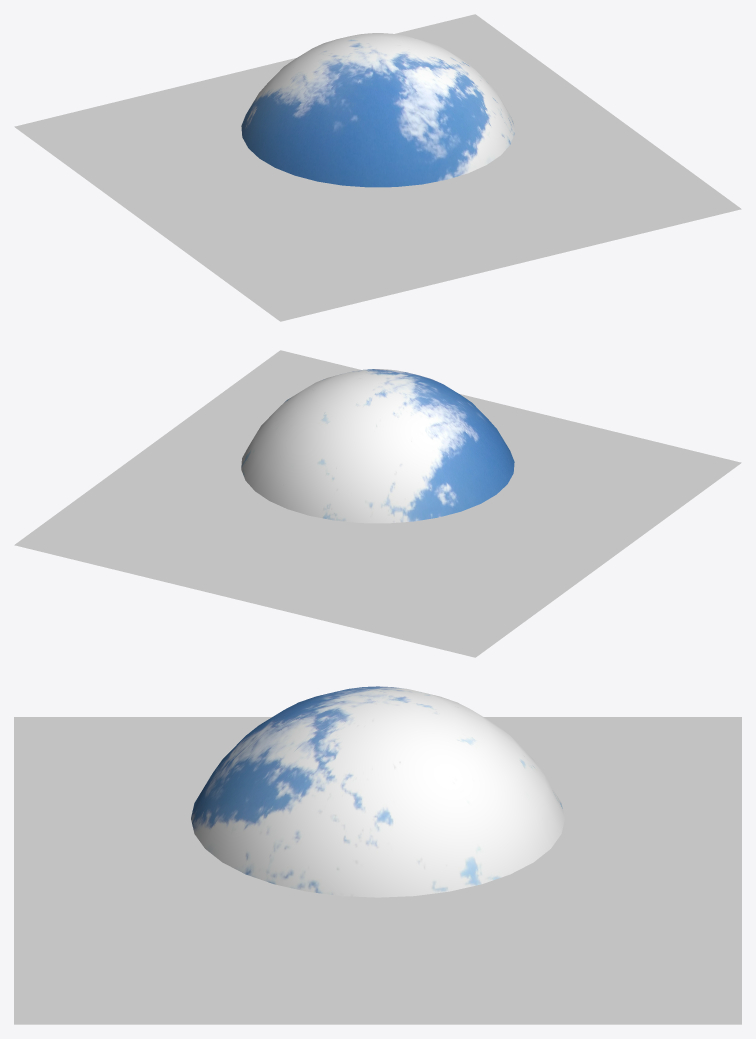
The model's file is luftbadleopold.glb.
The picture shows the model from 3 angles, top to bottom: view 1: azimuth 30°, elevation 25°; view 2: azimuth 150°, elevation 25°; view 3: azimuth 270°, elevation 25°; orthographic projection. The views are drawn at different scales.
Parts seen in each view (by area): view 1: clipping, sky; view 2: clipping, sky; view 3: clipping, sky.
Part boxes in pixels (box(x1,y1,x2,y2)): clipping: box(14, 14, 741, 321); sky: box(241, 33, 514, 187); clipping: box(14, 350, 741, 657); sky: box(241, 369, 514, 523); clipping: box(14, 717, 741, 1024); sky: box(191, 686, 564, 897).
Size of the model in its own units: 369 by 105 by 369.
4 materials, 1 textured.
